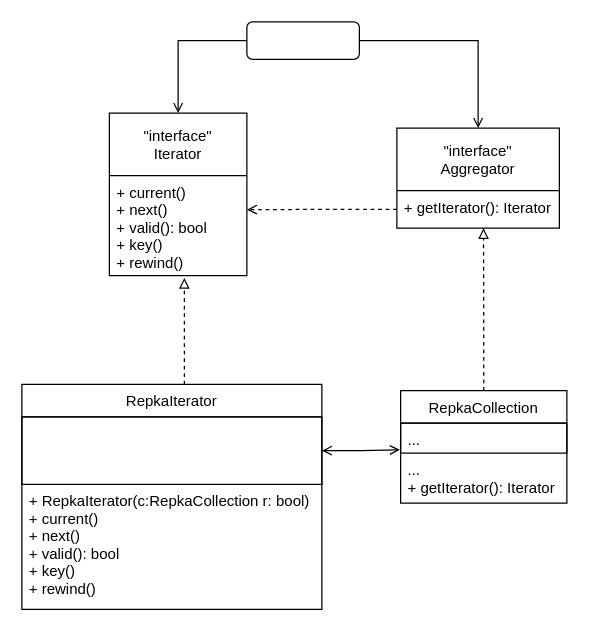
Image size: 589x635. Some labels were removed from this diagram. The centre of each missing label's shape, as x and y in pixels:
- collection: ConcreteCollection - position - reverse: (x=171, y=450)
Client: (x=302, y=40)
